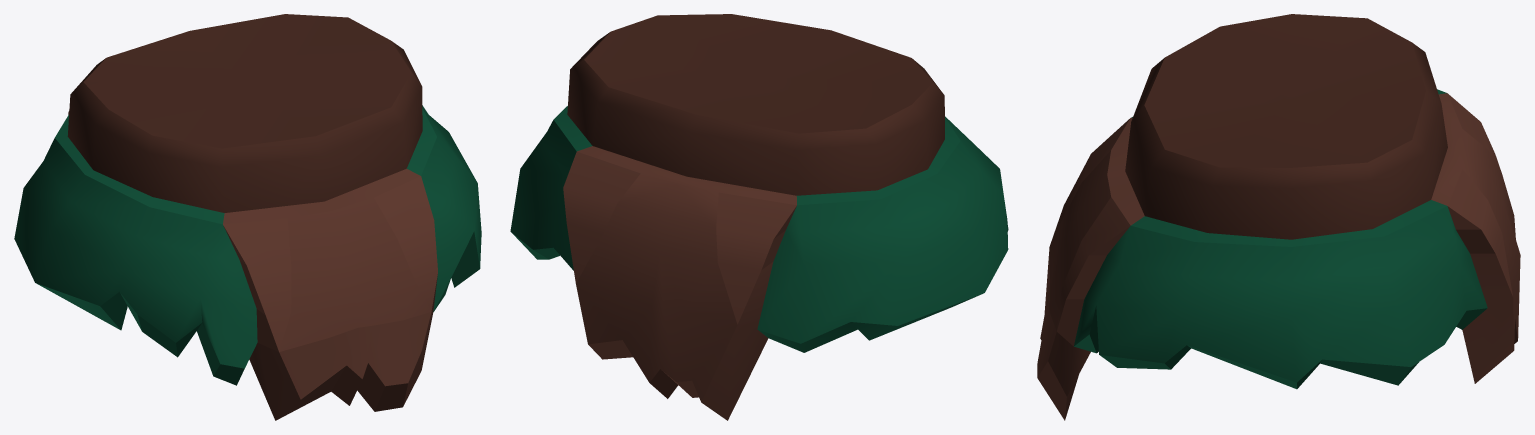
The model's file is Bottom_52.fbx.
3 views of the same model, side by side, from view 1: azimuth 30°, elevation 25°; view 2: azimuth 150°, elevation 25°; view 3: azimuth 270°, elevation 25° (orthographic). The views are drawn at different scales.
Visible parts, largest first — view 1: Bottom_52; view 2: Bottom_52; view 3: Bottom_52.
Part boxes in pixels (x1,y1,x2,y2): Bottom_52: (14, 14, 481, 420); Bottom_52: (510, 14, 1008, 420); Bottom_52: (1037, 14, 1520, 420).
Size of the model in its own units: 51.7 by 31.5 by 45.61.
